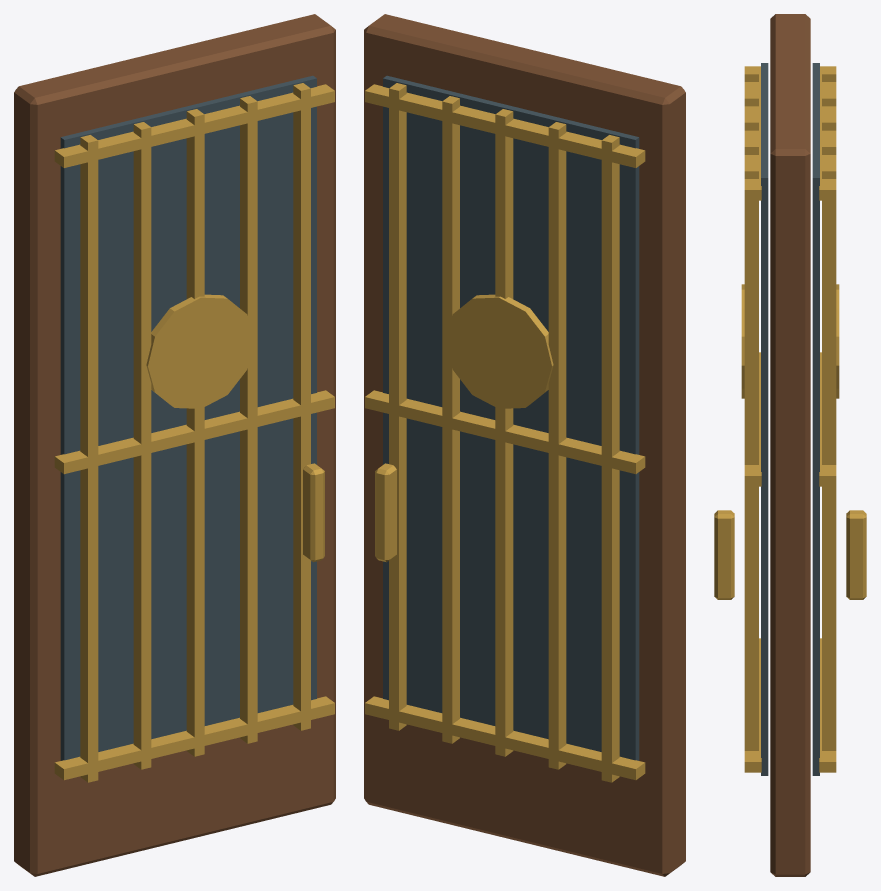
Rendered from door_ornate_gate.glb.
The picture shows the model from 3 angles, left to right: view 1: azimuth 30°, elevation 25°; view 2: azimuth 150°, elevation 25°; view 3: azimuth 270°, elevation 25°; orthographic projection. The views are drawn at different scales.
Parts seen in each view (by area): view 1: door_ornate_gate; view 2: door_ornate_gate; view 3: door_ornate_gate.
Part boxes in pixels (x1,y1,x2,y2): door_ornate_gate: (14,14,335,876); door_ornate_gate: (364,14,685,876); door_ornate_gate: (714,14,866,876).
Bounding box in the file's own units: 1.15 × 2.8 × 0.53.
